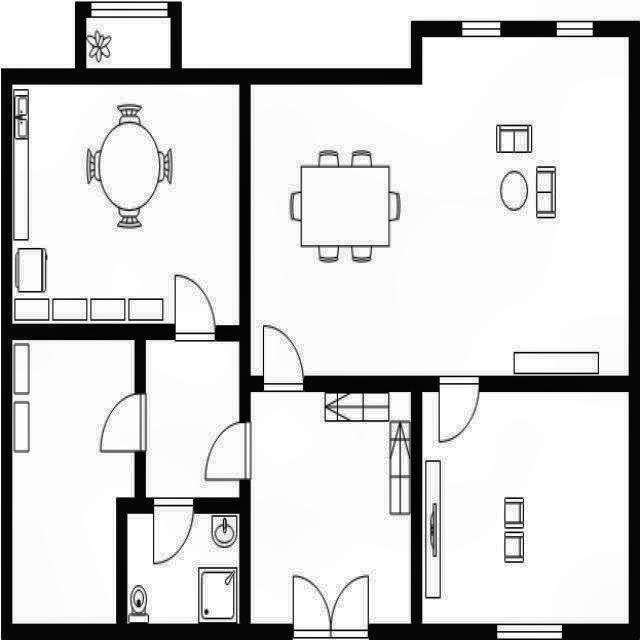room: (251, 37, 628, 375), (12, 85, 240, 324), (423, 392, 628, 623), (251, 392, 410, 622), (13, 341, 134, 621), (146, 340, 239, 497), (128, 515, 238, 620), (86, 18, 171, 68)
